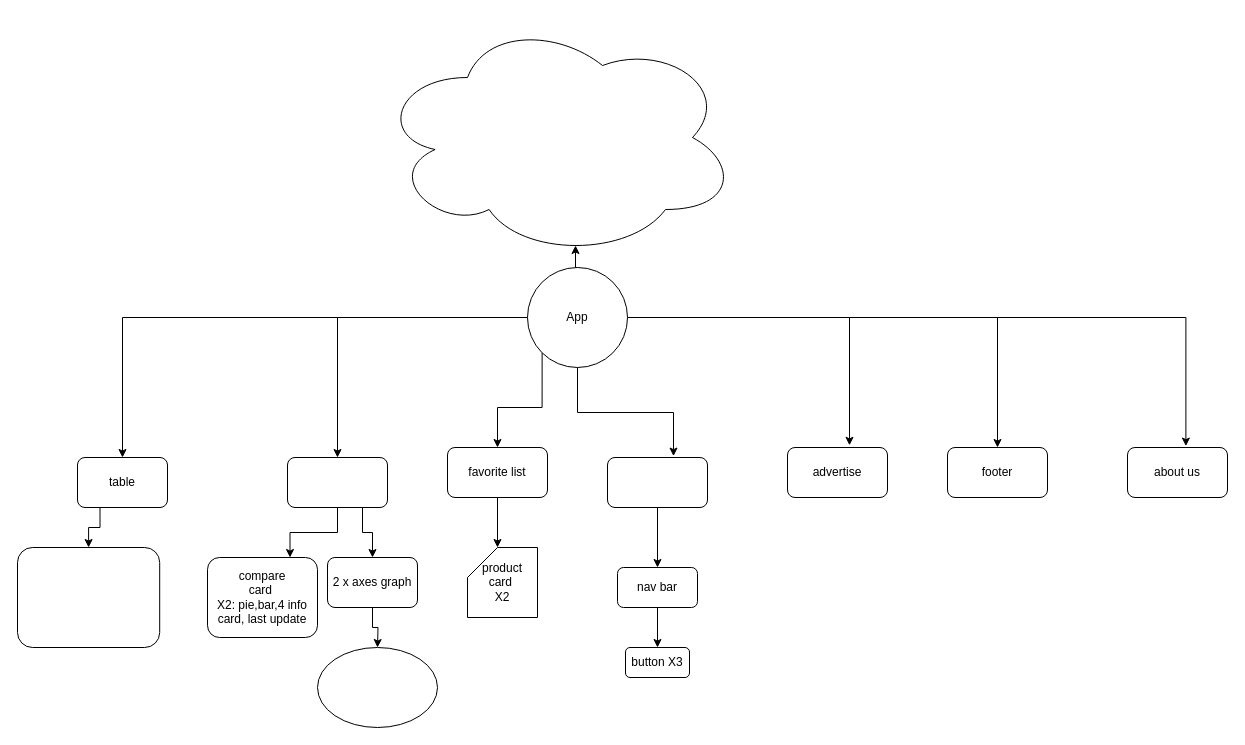
The diagram is 1245 pixels wide and 745 high, and some of its shapes have lost their labels. Each missing label, with the centre of its shape:
"compare" belongs at [337,482].
"header" belongs at [657,482].
"max 2 days" belongs at [377,687].
"option: all data harel altshuler migdal" belongs at [88,597].
"state: 2 compare product array:[null,null] data:{harel:data, etc ...}" belongs at [557,137].
